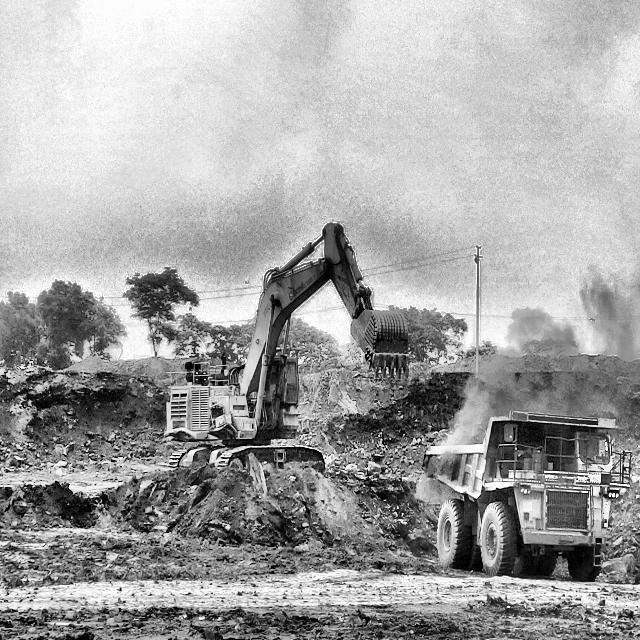dump_truck: (442, 415, 625, 585)
excavator: (165, 224, 410, 455)
